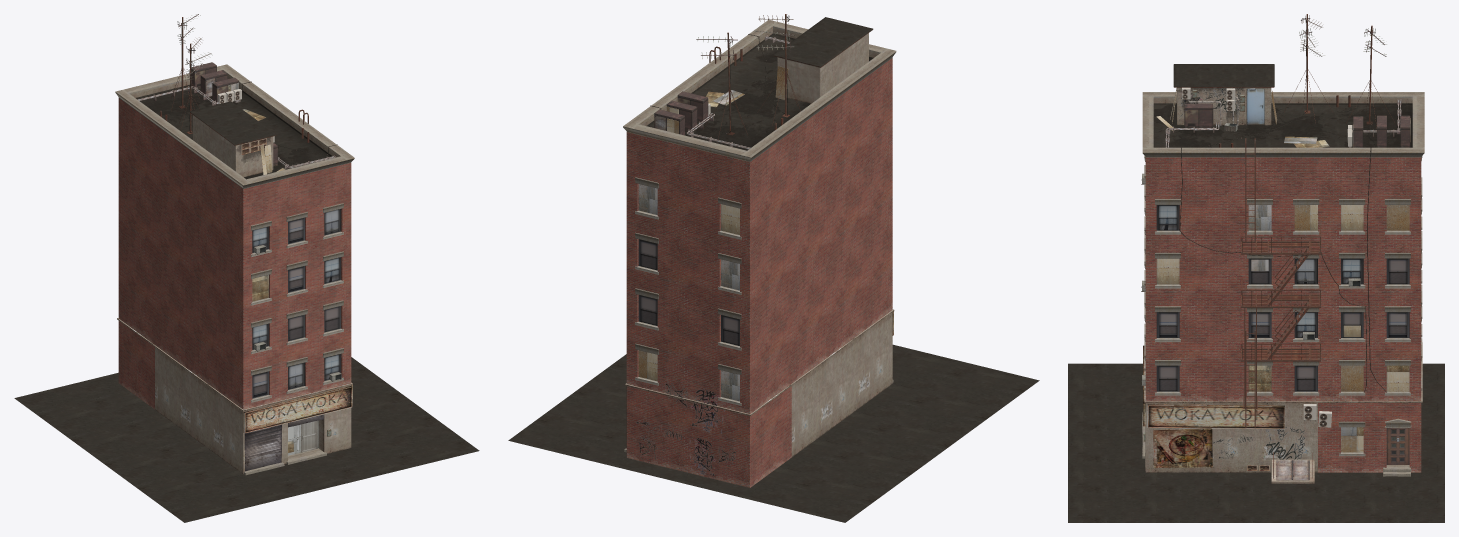
Rendered from old_city_building.obj.
3 views of the same model, side by side, from view 1: azimuth 30°, elevation 25°; view 2: azimuth 150°, elevation 25°; view 3: azimuth 270°, elevation 25° (orthographic). The views are drawn at different scales.
Parts seen in each view (by area): view 1: obj11, obj1, obj3, obj13, obj19, obj6, obj5, obj12, obj10, obj17, obj8, obj15 (+3 smaller); view 2: obj11, obj1, obj3, obj13, obj19, obj12, obj5, obj4, obj8, obj10, obj9, obj6 (+1 smaller); view 3: obj11, obj1, obj3, obj19, obj13, obj5, obj6, obj4, obj7, obj10, obj12, obj8 (+5 smaller).
Boxes of the visible parts, <box> form: obj11: <box>118,98,351,361</box>; obj1: <box>14,357,479,522</box>; obj3: <box>118,270,351,409</box>; obj13: <box>117,75,352,474</box>; obj19: <box>135,26,337,179</box>; obj6: <box>252,209,340,398</box>; obj5: <box>115,73,354,402</box>; obj12: <box>115,64,354,475</box>; obj10: <box>138,14,341,436</box>; obj17: <box>243,385,352,433</box>; obj8: <box>140,89,315,179</box>; obj15: <box>244,414,323,471</box>; obj11: <box>626,58,892,358</box>; obj1: <box>508,344,1039,522</box>; obj3: <box>626,255,892,487</box>; obj13: <box>625,28,894,457</box>; obj19: <box>646,17,873,150</box>; obj12: <box>623,20,895,452</box>; obj5: <box>623,26,896,405</box>; obj4: <box>638,66,788,401</box>; obj8: <box>649,46,870,150</box>; obj10: <box>651,15,795,149</box>; obj9: <box>634,379,743,480</box>; obj6: <box>638,239,739,345</box>; obj11: <box>1145,157,1421,347</box>; obj1: <box>1068,363,1444,522</box>; obj3: <box>1145,347,1421,472</box>; obj19: <box>1153,21,1412,392</box>; obj13: <box>1144,87,1422,483</box>; obj5: <box>1142,96,1424,456</box>; obj6: <box>1156,205,1409,391</box>; obj4: <box>1156,88,1410,452</box>; obj7: <box>1174,14,1394,478</box>; obj10: <box>1141,15,1410,480</box>; obj12: <box>1142,92,1424,476</box>; obj8: <box>1154,87,1412,147</box>.
Size of the model in its own units: 19.12 by 23.03 by 19.12.
18 materials, 18 textured.
